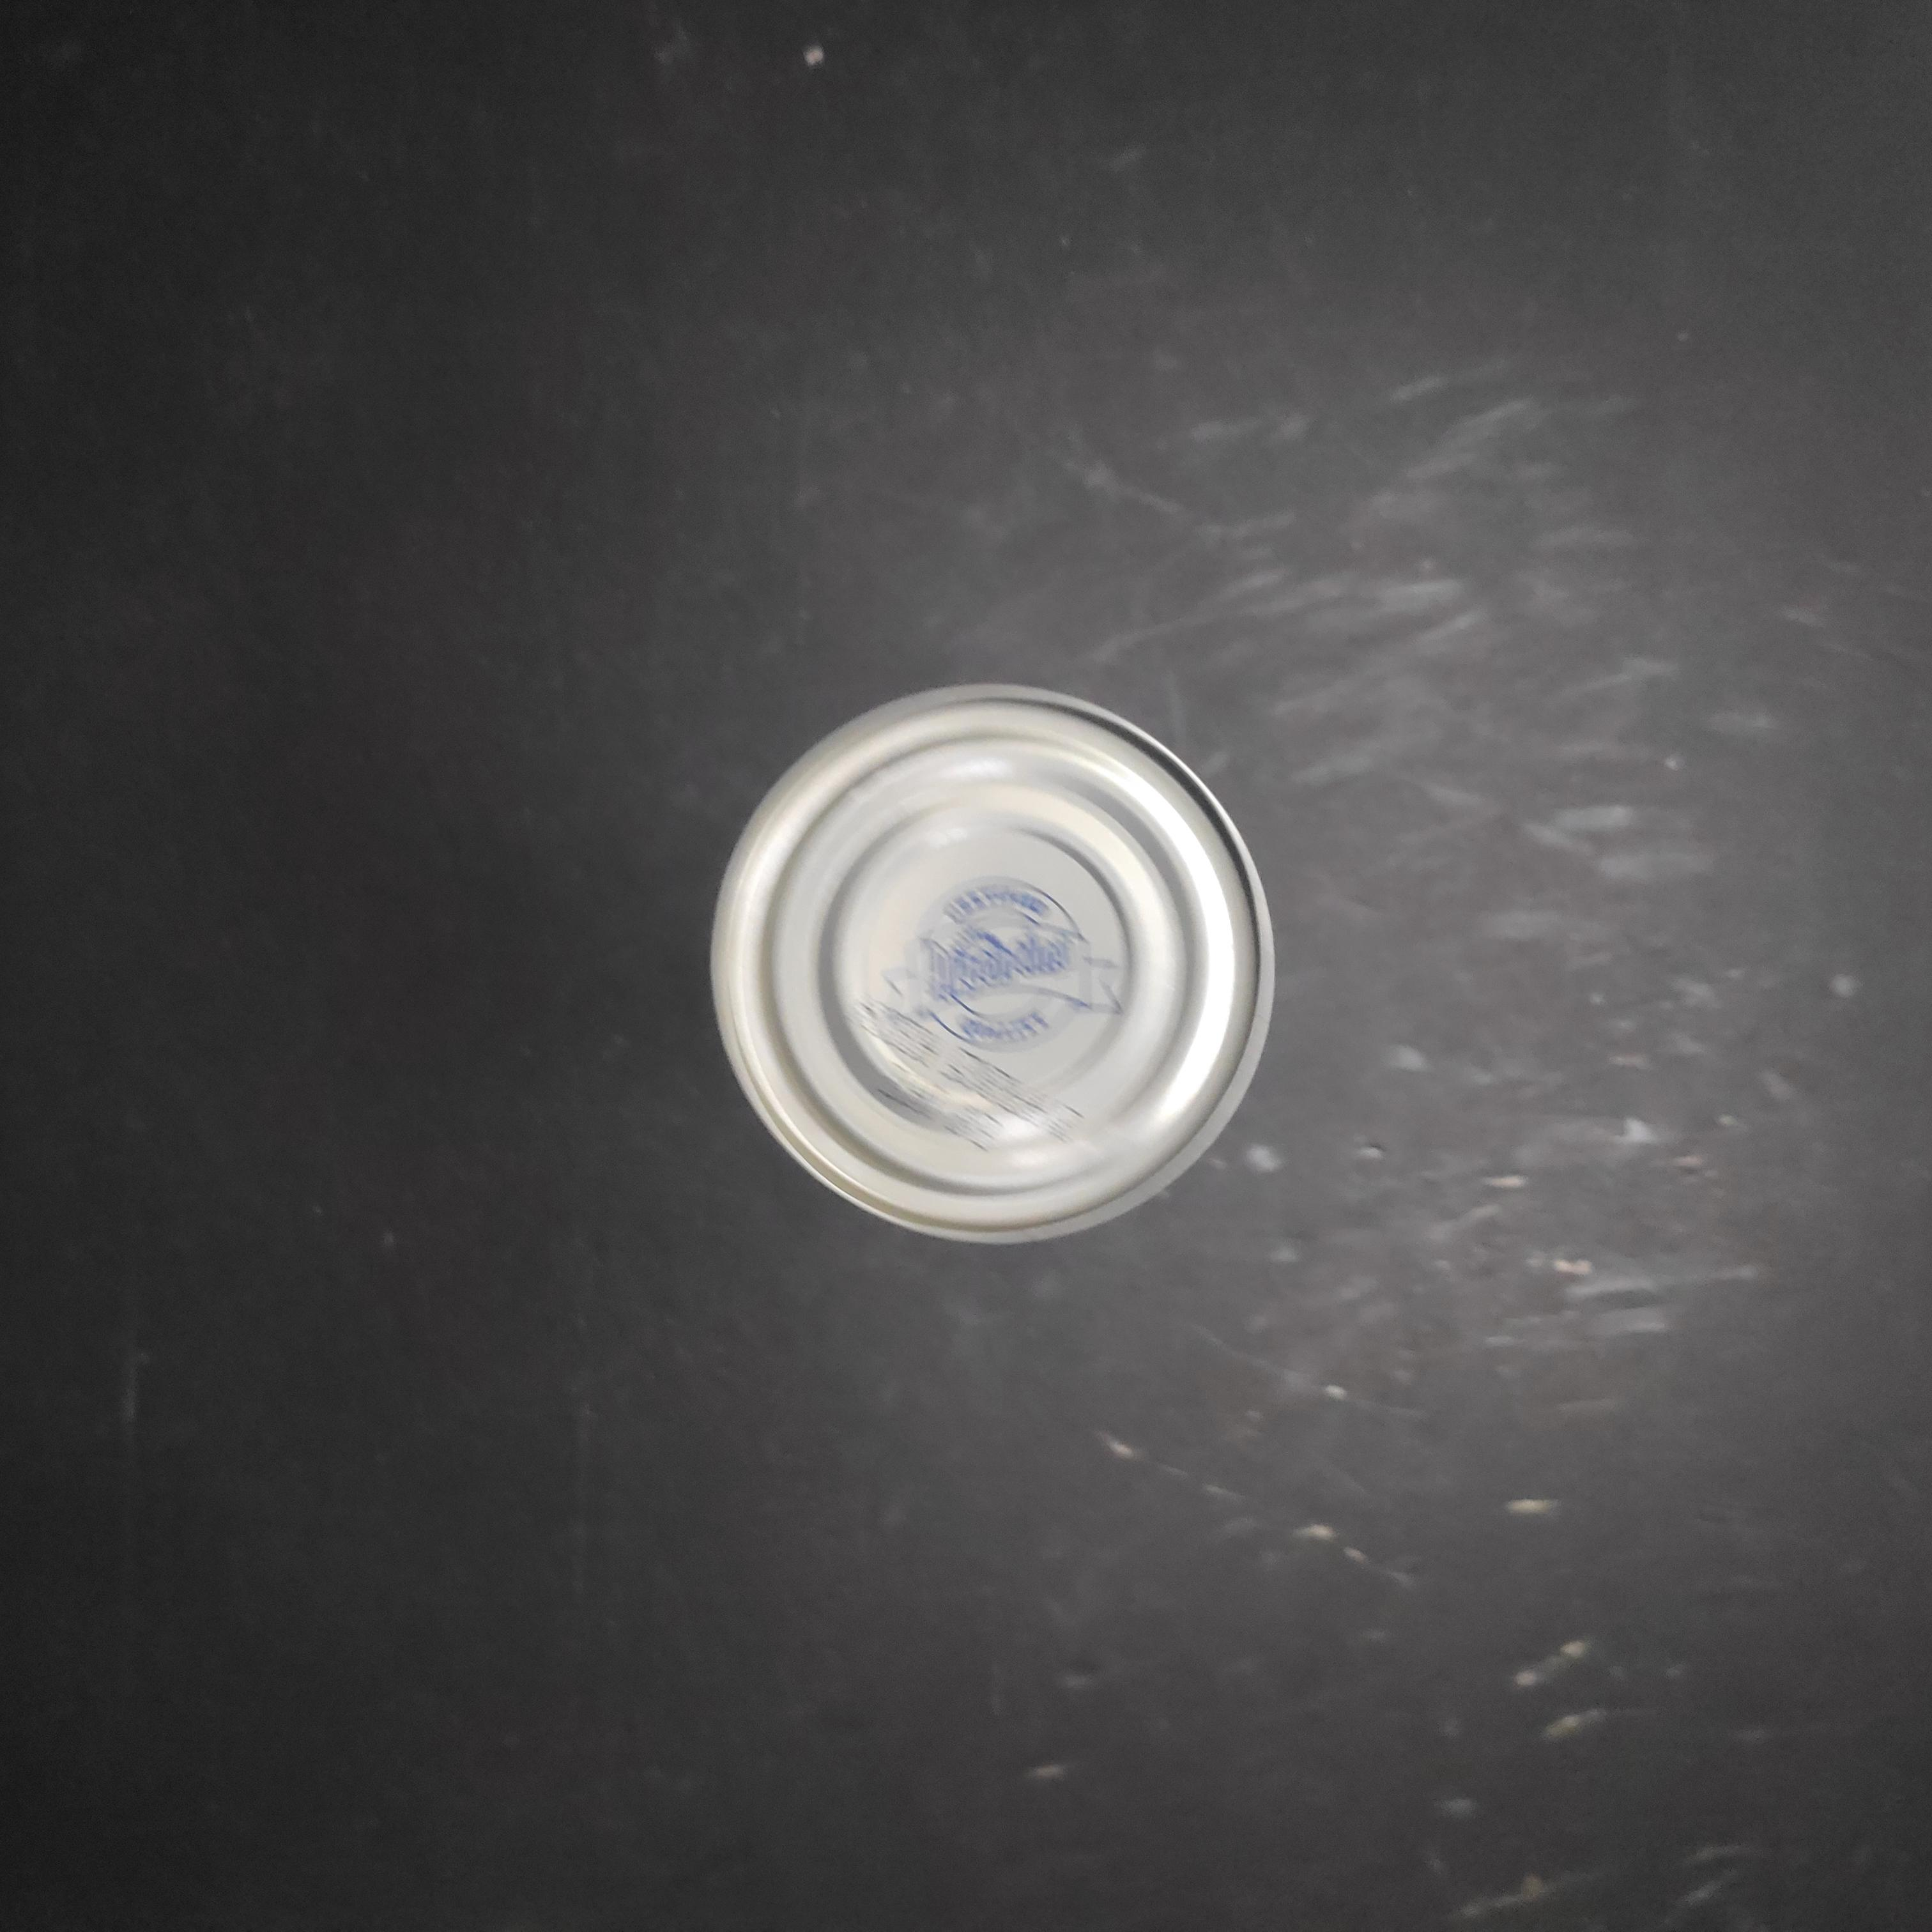No defect: (701, 665, 1286, 1263)
